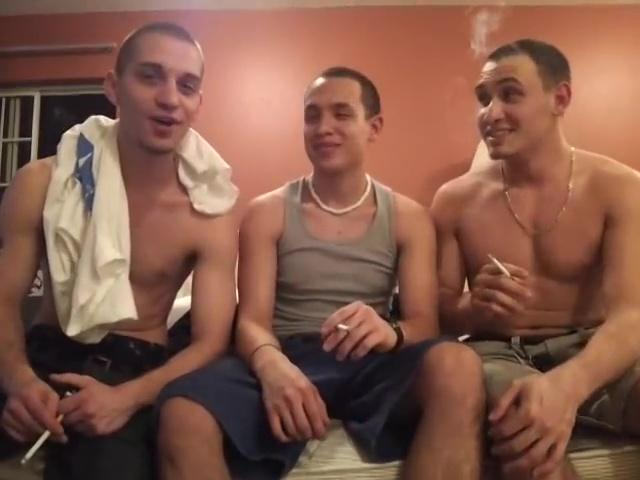cigarette: (16, 410, 66, 466), (486, 251, 517, 282), (334, 320, 356, 334)
